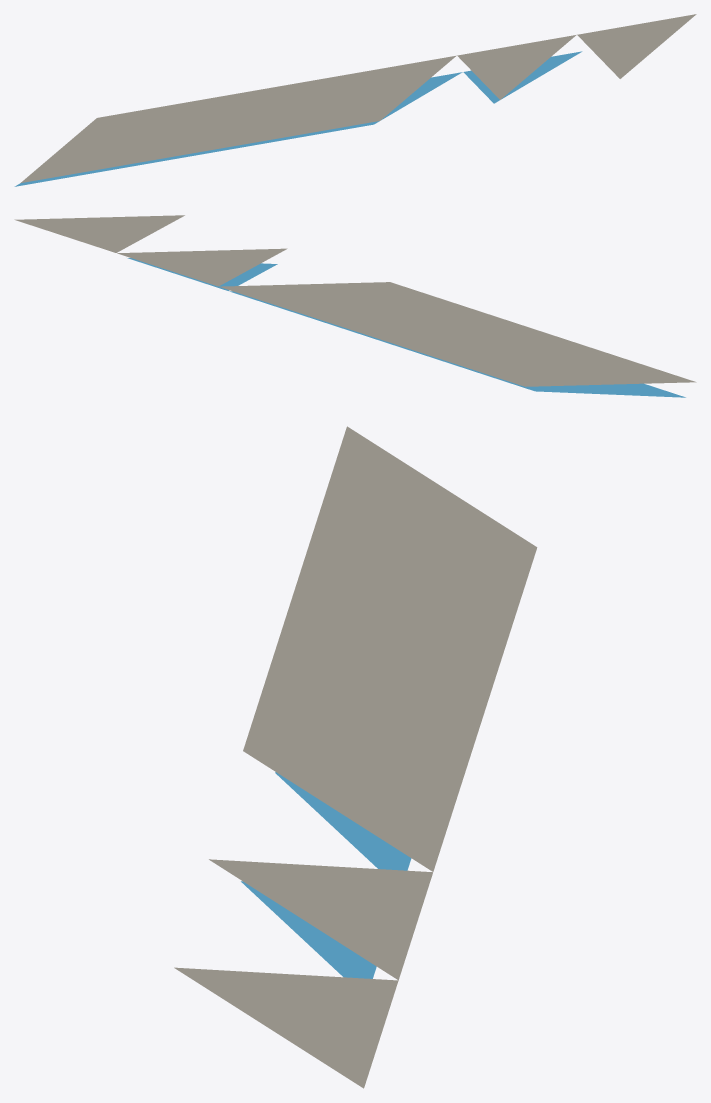
3 views of the same model, one above another, from view 1: azimuth 30°, elevation 25°; view 2: azimuth 150°, elevation 25°; view 3: azimuth 270°, elevation 25° (orthographic). The views are drawn at different scales.
Parts seen in each view (by area): view 1: estructura_terreno, estructura_agua; view 2: estructura_terreno, estructura_agua; view 3: estructura_terreno, estructura_agua.
Boxes of the visible parts, x1,y1,x2,y2 form: estructura_terreno: (20, 14, 696, 183); estructura_agua: (14, 51, 582, 186); estructura_terreno: (14, 215, 696, 386); estructura_agua: (127, 258, 685, 397); estructura_terreno: (174, 426, 537, 1088); estructura_agua: (241, 772, 411, 978).
Bounding box in the file's own units: 28.99 × 0.41 × 6.73.
